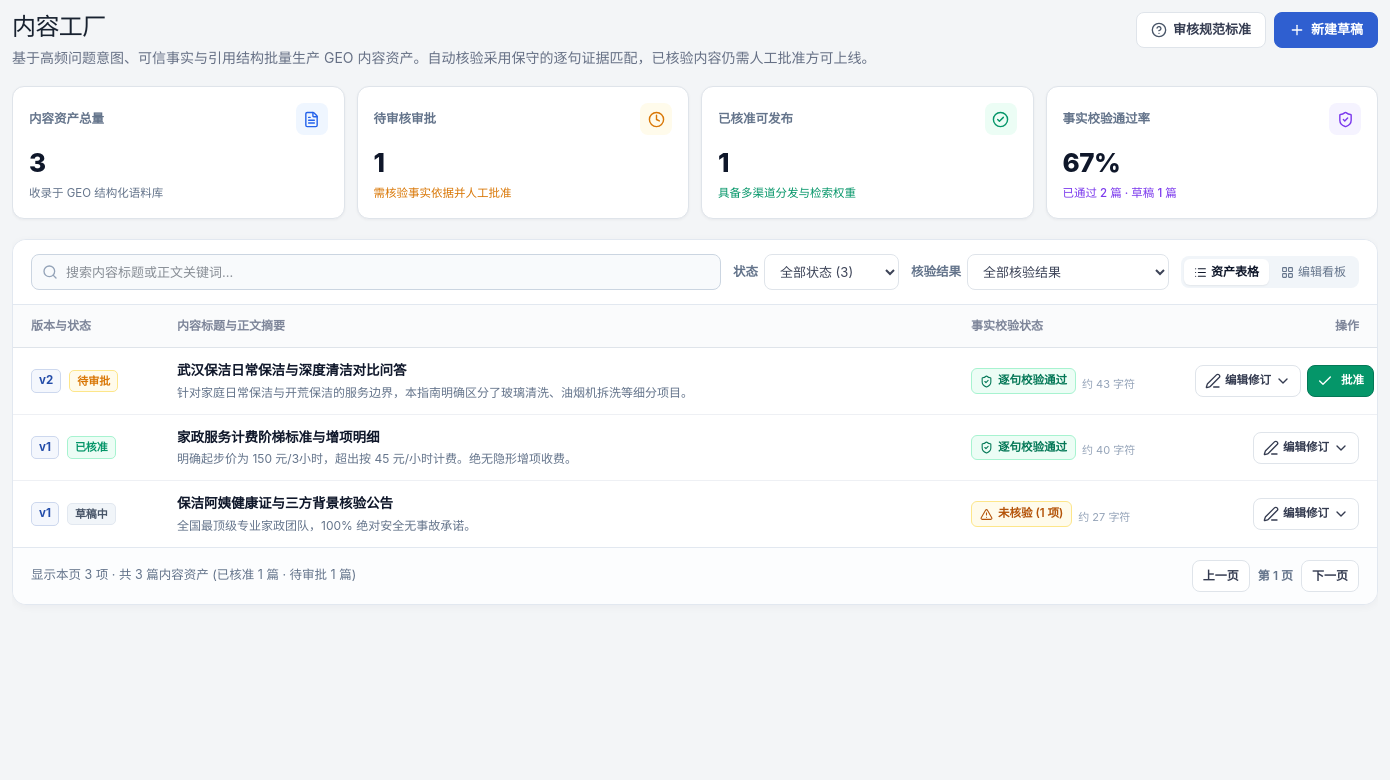
it: ContentView Component Redesign › filters content assets by search keyword
Check: the text "武汉保洁日常保洁与深度清洁对比问答" is shown, box [177, 362, 406, 378]
Check: the text "家政服务计费阶梯标准与增项明细" is shown, box [177, 429, 380, 445]
Type "计费" into the field with placeholder "搜索内容标题或正文关键词…" at [376, 272], box [31, 254, 721, 290]
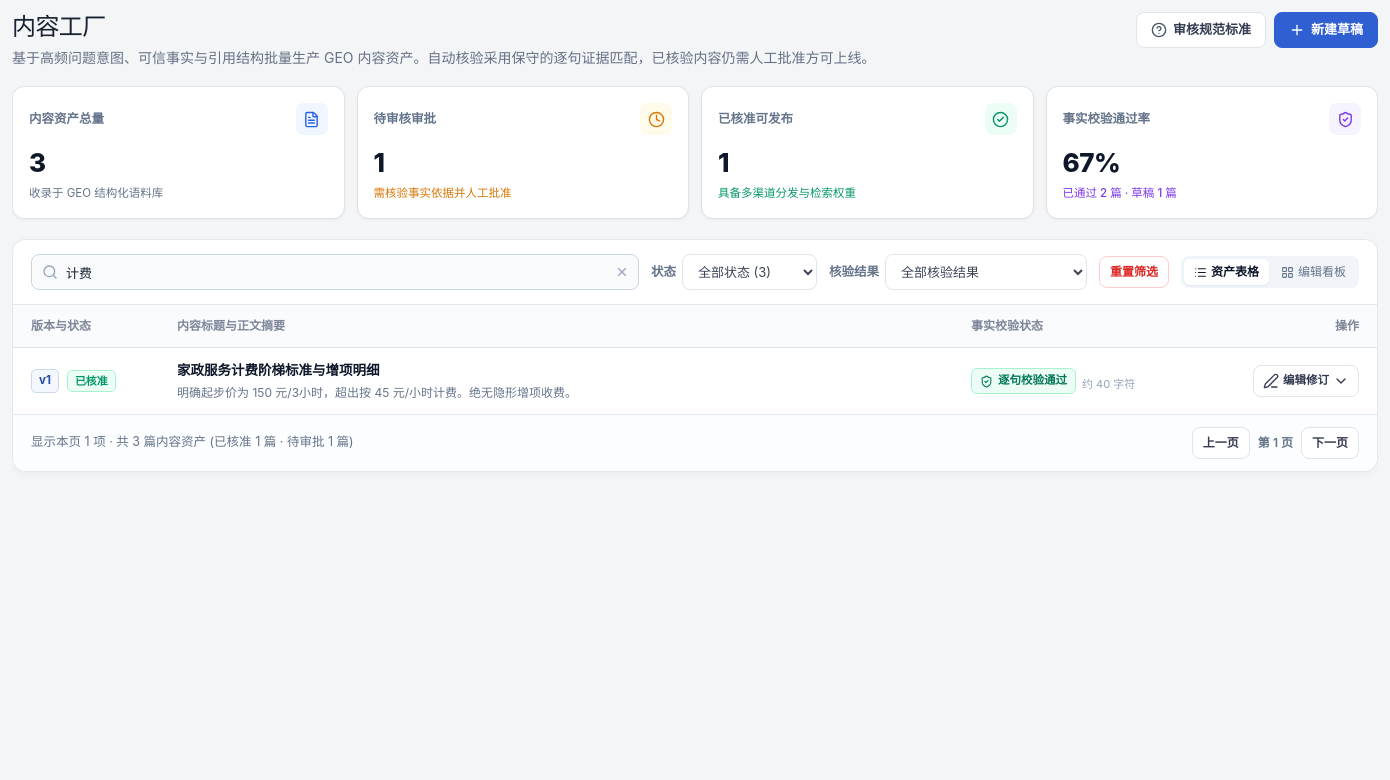
Check: the text "家政服务计费阶梯标准与增项明细" is shown, box [177, 362, 380, 378]
Check: the text "武汉保洁日常保洁与深度清洁对比问答" is gone
